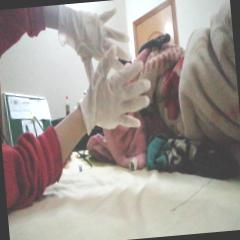gloved: (78, 44, 155, 135), (55, 0, 136, 83)
